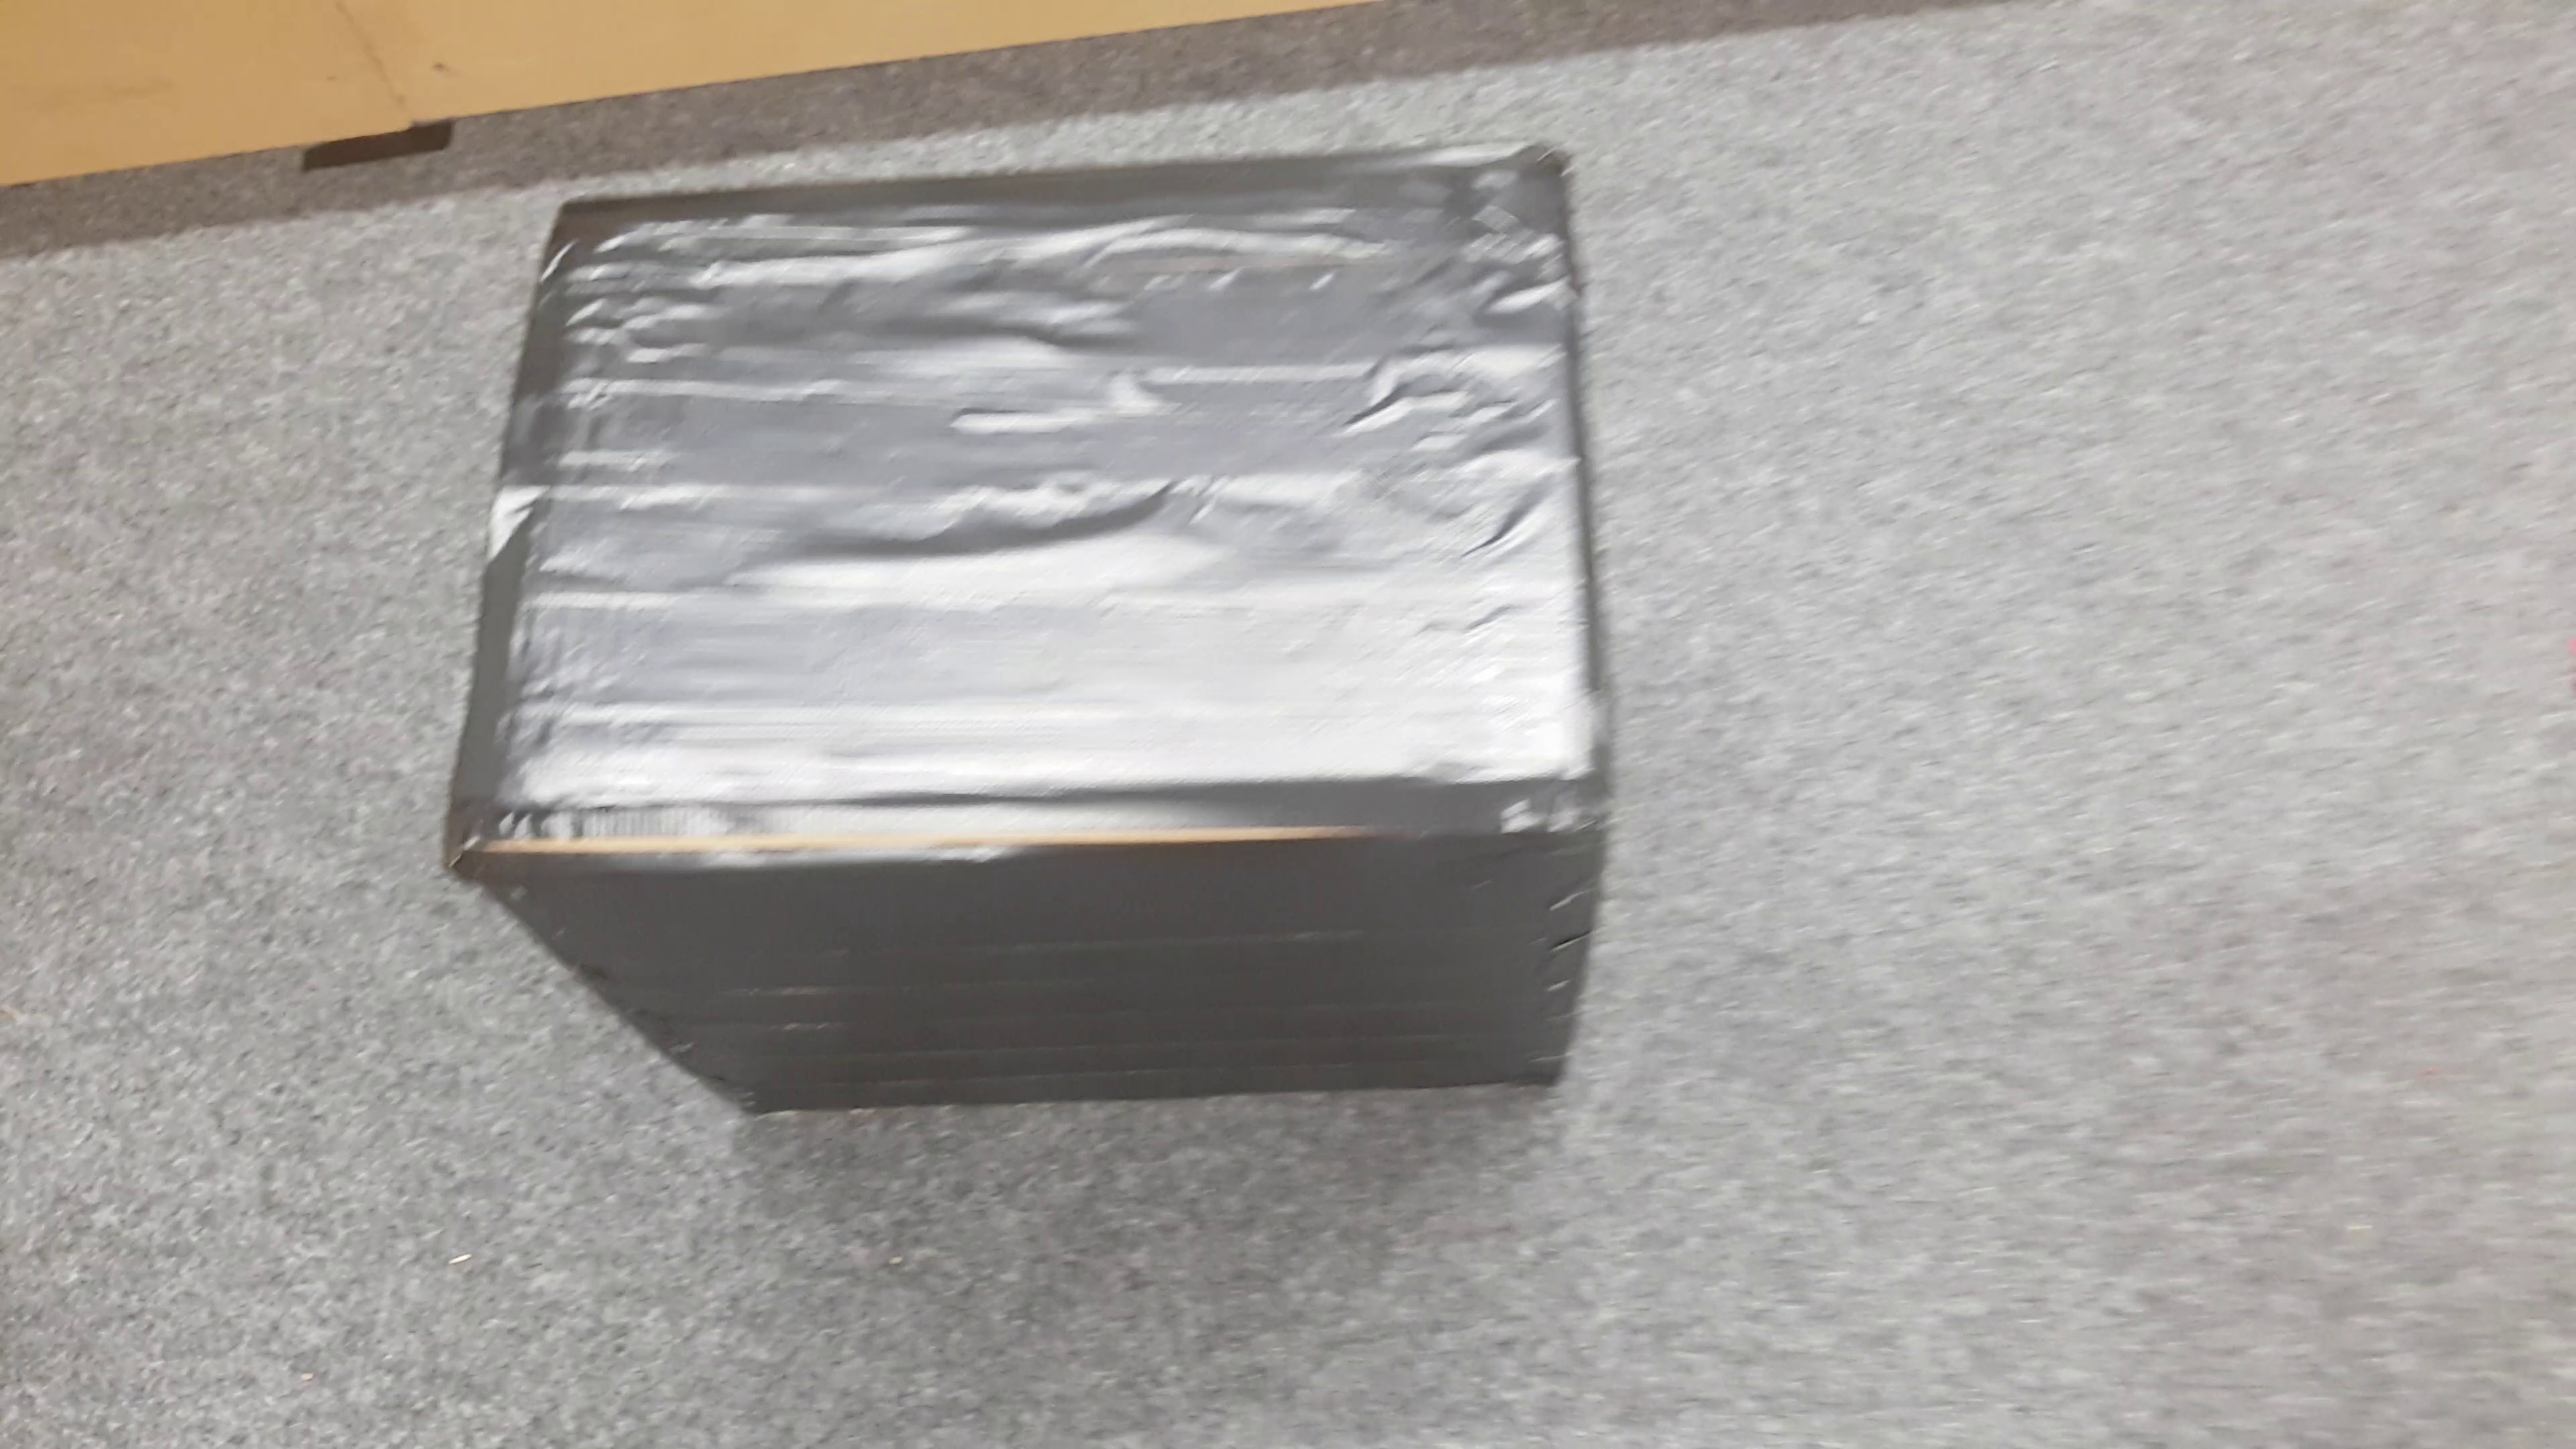push: (478, 200, 1606, 1125)
